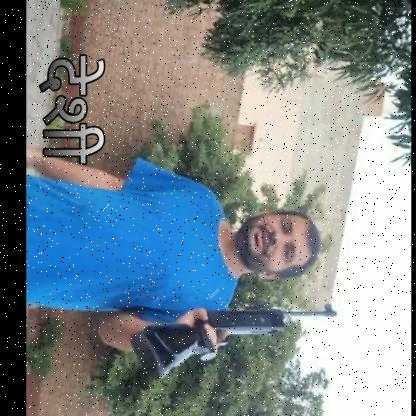rifle: (127, 302, 338, 382)
